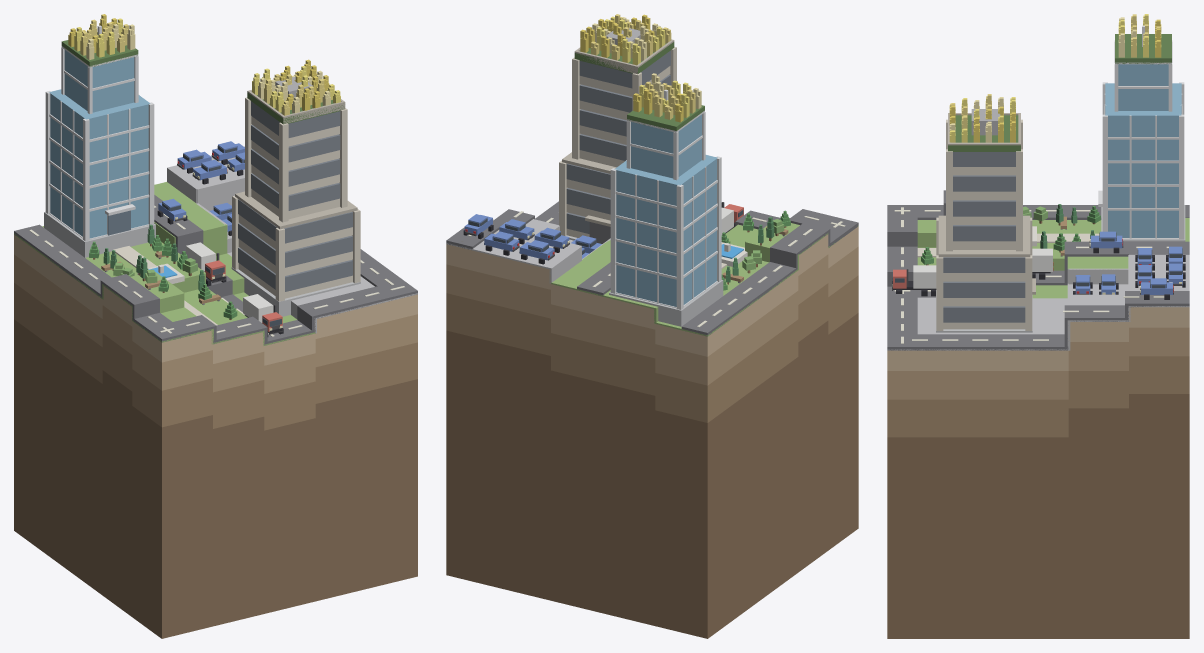
File: block_8_urbanfarm_45.glb
The picture shows the model from 3 angles, left to right: view 1: azimuth 30°, elevation 25°; view 2: azimuth 150°, elevation 25°; view 3: azimuth 270°, elevation 25°; orthographic projection. The views are drawn at different scales.
Visible parts, largest first — view 1: Patch_UpperLeft_b05_UF, Commercial_UpperLeft_UF, Roads_UpperLeft_b05_UF, Green_UpperLeft_j5_UF, Park_UpperLeft_UF, UFR_Commercial_UpperLeft_UF, ULCar_025_UF, ULCar_024_UF, RoadMarks_UpperLeft_b05_UF, ULPark_Car02.001_UF; view 2: Patch_UpperLeft_b05_UF, Commercial_UpperLeft_UF, Roads_UpperLeft_b05_UF, Green_UpperLeft_j5_UF, UFR_Commercial_UpperLeft_UF, Park_UpperLeft_UF, ULPark_Car00_UF, ULPark_Car00.001_UF; view 3: Patch_UpperLeft_b05_UF, Commercial_UpperLeft_UF, Roads_UpperLeft_b05_UF, Green_UpperLeft_j5_UF, UFR_Commercial_UpperLeft_UF, Park_UpperLeft_UF, ULCar_025_UF, RoadMarks_UpperLeft_b05_UF, ULCar_024_UF, ULCar_023_UF, ULCar_013_UF.
Part boxes in pixels (bbox=[...]): Patch_UpperLeft_b05_UF: bbox=[14, 235, 417, 638]; Commercial_UpperLeft_UF: bbox=[44, 25, 360, 316]; Roads_UpperLeft_b05_UF: bbox=[14, 146, 417, 345]; Green_UpperLeft_j5_UF: bbox=[14, 157, 417, 345]; Park_UpperLeft_UF: bbox=[94, 246, 245, 325]; UFR_Commercial_UpperLeft_UF: bbox=[61, 40, 344, 124]; ULCar_025_UF: bbox=[243, 294, 283, 336]; ULCar_024_UF: bbox=[186, 242, 226, 286]; RoadMarks_UpperLeft_b05_UF: bbox=[29, 205, 404, 336]; ULPark_Car02.001_UF: bbox=[192, 159, 227, 184]; Patch_UpperLeft_b05_UF: bbox=[446, 226, 858, 638]; Commercial_UpperLeft_UF: bbox=[559, 28, 723, 326]; Roads_UpperLeft_b05_UF: bbox=[446, 201, 858, 336]; Green_UpperLeft_j5_UF: bbox=[446, 219, 858, 336]; UFR_Commercial_UpperLeft_UF: bbox=[574, 42, 704, 130]; Park_UpperLeft_UF: bbox=[721, 225, 788, 289]; ULPark_Car00_UF: bbox=[484, 231, 519, 255]; ULPark_Car00.001_UF: bbox=[519, 240, 554, 264]; Patch_UpperLeft_b05_UF: bbox=[887, 307, 1189, 638]; Commercial_UpperLeft_UF: bbox=[936, 25, 1185, 332]; Roads_UpperLeft_b05_UF: bbox=[887, 190, 1189, 350]; Green_UpperLeft_j5_UF: bbox=[887, 218, 1189, 350]; UFR_Commercial_UpperLeft_UF: bbox=[948, 34, 1171, 151]; Park_UpperLeft_UF: bbox=[917, 216, 1100, 264]; ULCar_025_UF: bbox=[892, 265, 936, 296]; RoadMarks_UpperLeft_b05_UF: bbox=[894, 207, 1168, 343]; ULCar_024_UF: bbox=[1032, 248, 1053, 279]; ULCar_023_UF: bbox=[1089, 231, 1123, 253]; ULCar_013_UF: bbox=[1140, 278, 1173, 299].
Bounding box in the file's own units: 9.5 × 18.03 × 9.5.
